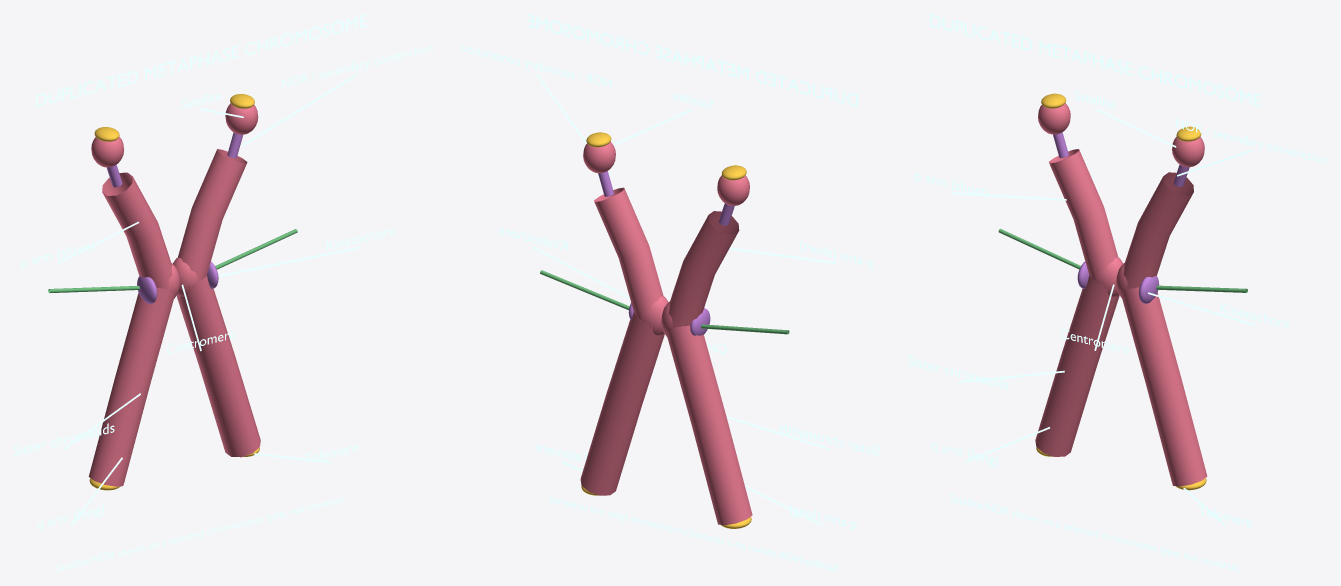
The model's file is chromosome.glb.
The picture shows the model from 3 angles, left to right: view 1: azimuth 30°, elevation 25°; view 2: azimuth 150°, elevation 25°; view 3: azimuth 330°, elevation 25°; orthographic projection.
Parts seen in each view (by area): view 1: q arm sister -1.001, q arm sister 1.001, p arm sister 1.001, p arm sister -1.001, Label DUPLICATED METAPHASE CHROMOSOME.001, Label Satellite/NOR shown on a selected chromosome type; no, Satellite.003, Satellite, Label NOR / secondary constriction.001, Centromeric chromatin; view 2: q arm sister -1.001, q arm sister 1.001, p arm sister 1.001, p arm sister -1.001, Label DUPLICATED METAPHASE CHROMOSOME.001, Label Satellite/NOR shown on a selected chromosome type; no, Satellite, Satellite.003, Label NOR / secondary constriction.001, Centromeric chromatin; view 3: q arm sister 1.001, q arm sister -1.001, p arm sister -1.001, p arm sister 1.001, Label DUPLICATED METAPHASE CHROMOSOME.001, Label Satellite/NOR shown on a selected chromosome type; no, Satellite.003, Satellite, Label NOR / secondary constriction.001, Centromeric chromatin.003.
Part boxes in pixels (x1=…): q arm sister -1.001: x1=88, y1=287, x2=176, y2=486; q arm sister 1.001: x1=176, y1=276, x2=260, y2=457; p arm sister 1.001: x1=177, y1=149, x2=247, y2=281; p arm sister -1.001: x1=102, y1=172, x2=172, y2=289; Label DUPLICATED METAPHASE CHROMOSOME.001: x1=36, y1=14, x2=366, y2=106; Label Satellite/NOR shown on a selected chromosome type; no: x1=56, y1=495, x2=345, y2=571; Satellite.003: x1=91, y1=137, x2=123, y2=167; Satellite: x1=225, y1=103, x2=258, y2=134; Label NOR / secondary constriction.001: x1=282, y1=46, x2=432, y2=87; Centromeric chromatin: x1=173, y1=257, x2=201, y2=296; q arm sister -1.001: x1=665, y1=325, x2=752, y2=525; q arm sister 1.001: x1=580, y1=312, x2=664, y2=495; p arm sister 1.001: x1=594, y1=187, x2=663, y2=320; p arm sister -1.001: x1=669, y1=211, x2=739, y2=327; Label DUPLICATED METAPHASE CHROMOSOME.001: x1=527, y1=14, x2=857, y2=106; Label Satellite/NOR shown on a selected chromosome type; no: x1=548, y1=495, x2=837, y2=571; Satellite: x1=583, y1=142, x2=615, y2=173; Satellite.003: x1=717, y1=175, x2=749, y2=205; Label NOR / secondary constriction.001: x1=461, y1=46, x2=611, y2=87; Centromeric chromatin: x1=640, y1=296, x2=668, y2=335; q arm sister 1.001: x1=1119, y1=287, x2=1207, y2=486; q arm sister -1.001: x1=1035, y1=275, x2=1119, y2=456; p arm sister -1.001: x1=1049, y1=149, x2=1118, y2=281; p arm sister 1.001: x1=1123, y1=172, x2=1193, y2=289; Label DUPLICATED METAPHASE CHROMOSOME.001: x1=930, y1=14, x2=1260, y2=107; Label Satellite/NOR shown on a selected chromosome type; no: x1=950, y1=494, x2=1239, y2=571; Satellite.003: x1=1038, y1=103, x2=1070, y2=134; Satellite: x1=1172, y1=136, x2=1204, y2=167; Label NOR / secondary constriction.001: x1=1176, y1=118, x2=1326, y2=163; Centromeric chromatin.003: x1=1095, y1=257, x2=1123, y2=296.
Bounding box in the file's own units: 6.43 × 7.12 × 0.9616.
